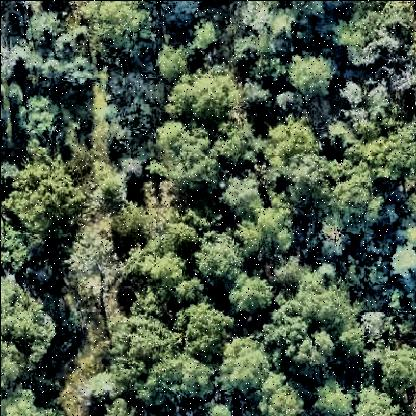tree-top: (7, 161, 93, 249), (2, 275, 64, 384), (259, 314, 341, 382), (315, 158, 385, 232), (336, 2, 416, 66), (138, 356, 224, 410), (173, 68, 242, 132), (111, 309, 180, 370), (66, 223, 123, 293), (210, 330, 263, 398), (173, 305, 235, 362), (162, 131, 220, 191), (260, 116, 318, 175), (364, 340, 416, 396), (364, 127, 416, 180), (206, 126, 264, 172), (285, 52, 339, 101), (193, 234, 243, 282), (230, 272, 277, 321), (246, 379, 307, 416), (147, 251, 195, 297), (1, 382, 59, 416), (218, 174, 262, 216), (18, 95, 57, 140), (309, 381, 351, 416), (352, 385, 398, 416), (356, 310, 396, 344), (83, 371, 117, 405), (254, 205, 290, 237), (326, 123, 357, 155), (391, 244, 416, 282), (32, 12, 61, 42), (271, 12, 301, 41), (158, 48, 187, 77), (235, 32, 261, 64), (194, 20, 220, 52), (338, 81, 363, 107), (103, 397, 136, 416), (53, 38, 76, 61)
